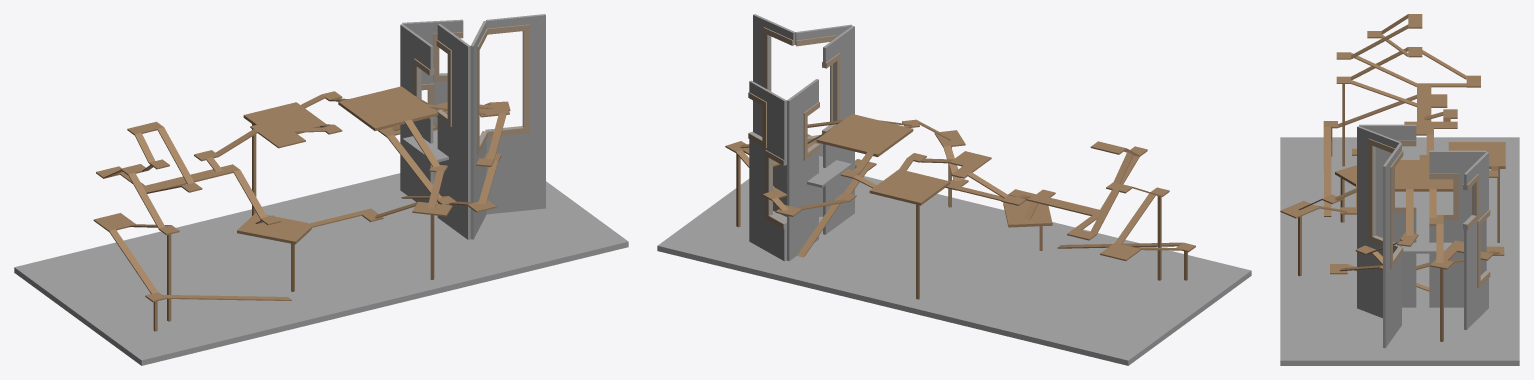
The model's file is 04_ZHUAN.glb.
3 views of the same model, side by side, from view 1: azimuth 30°, elevation 25°; view 2: azimuth 150°, elevation 25°; view 3: azimuth 270°, elevation 25° (orthographic). The views are drawn at different scales.
Visible parts, largest first — view 1: 01 DIZUO, 02 JIE, 03 DING, 04 ZHUAN; view 2: 01 DIZUO, 03 DING, 04 ZHUAN, 02 JIE; view 3: 01 DIZUO, 03 DING, 02 JIE, 04 ZHUAN.
Boxes of the visible parts, x1,y1,x2,y2 form: 01 DIZUO: (14,86,628,365); 02 JIE: (470,14,545,239); 03 DING: (400,24,470,239); 04 ZHUAN: (402,19,463,182); 01 DIZUO: (657,114,1251,365); 03 DING: (786,26,854,261); 04 ZHUAN: (748,80,786,261); 02 JIE: (753,14,852,216); 01 DIZUO: (1280,14,1519,365); 03 DING: (1359,124,1486,307); 02 JIE: (1357,126,1403,348); 04 ZHUAN: (1463,152,1490,330).
Bounding box in the file's own units: 9.23 × 3.6 × 4.18.
